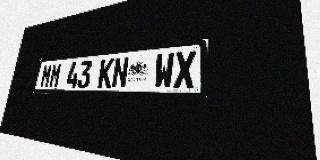3: (77, 60, 92, 88)
4: (65, 61, 81, 88)
K: (97, 58, 114, 88)
M: (48, 63, 62, 88), (39, 64, 53, 88)
N: (111, 57, 129, 88)
W: (153, 52, 175, 88)
X: (173, 50, 196, 88)
